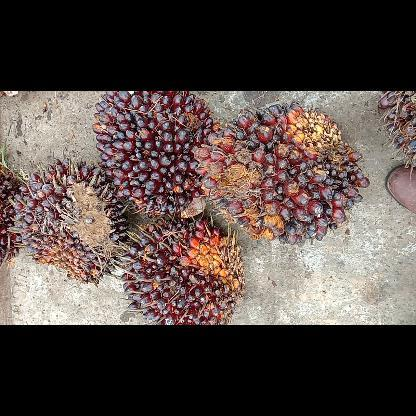Kurang masak: (192, 102, 372, 244), (90, 90, 220, 220), (11, 156, 131, 288), (118, 216, 246, 324)
